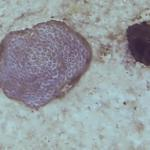alive: (4, 2, 146, 146)
